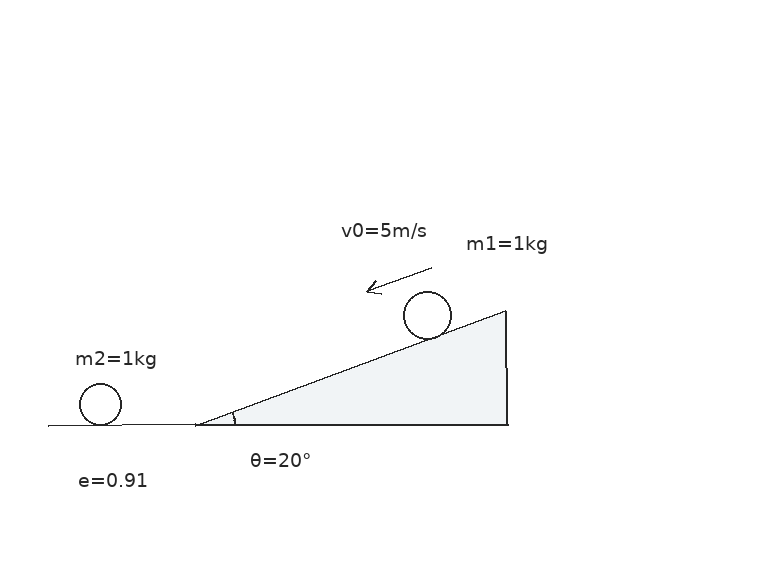ball: (401, 289, 453, 341), (77, 381, 123, 427)
ramp: (193, 310, 508, 427)
